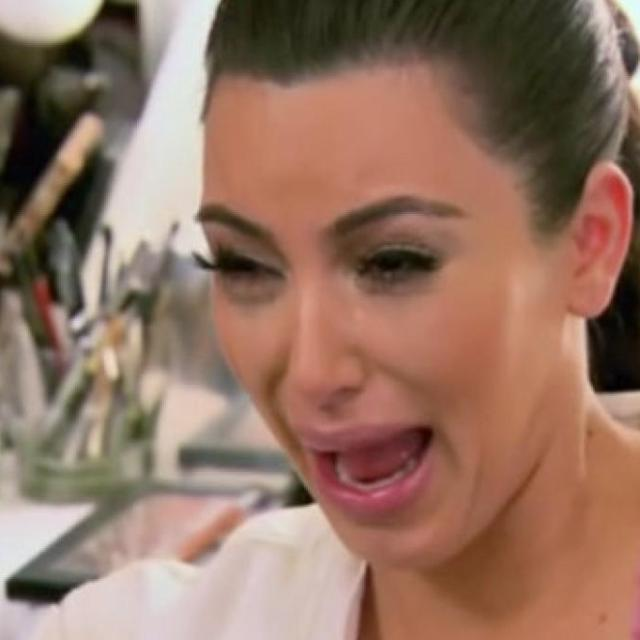Depress: (202, 56, 565, 572)
